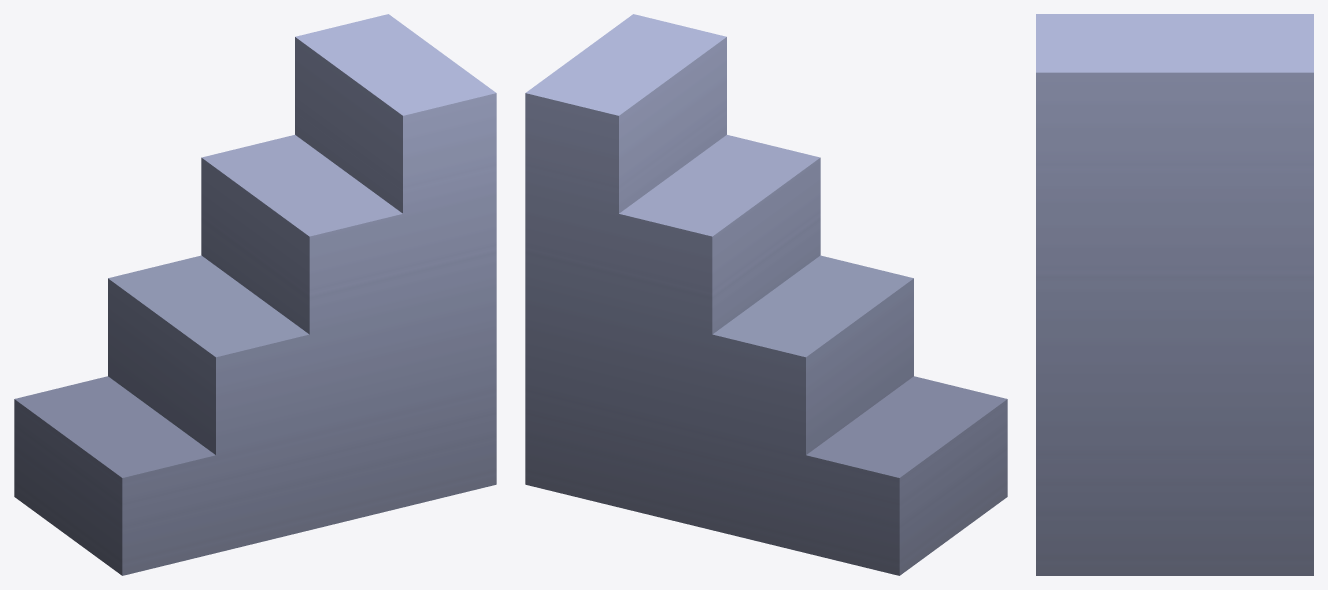
The model's file is stairs-narrow.fbx.
3 views of the same model, side by side, from view 1: azimuth 30°, elevation 25°; view 2: azimuth 150°, elevation 25°; view 3: azimuth 270°, elevation 25° (orthographic). The views are drawn at different scales.
Parts seen in each view (by area): view 1: stairs-narrow; view 2: stairs-narrow; view 3: stairs-narrow.
Part boxes in pixels (x1,y1,x2,y2): stairs-narrow: (14, 14, 496, 575); stairs-narrow: (525, 14, 1007, 575); stairs-narrow: (1036, 14, 1313, 575).
Bounding box in the file's own units: 100 × 100 × 50.
